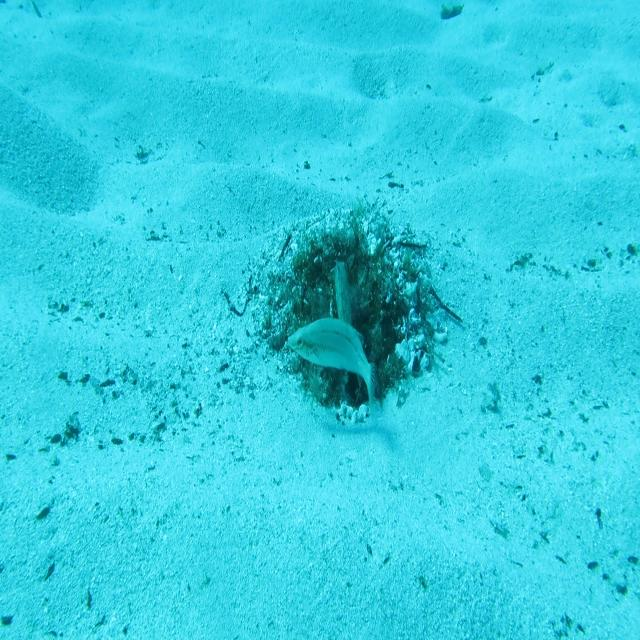ROLL: (327, 253, 365, 390)
core_nest: (319, 252, 370, 301)
female: (284, 313, 378, 426)
nest: (242, 196, 456, 432)
vegetation: (442, 0, 464, 21)
